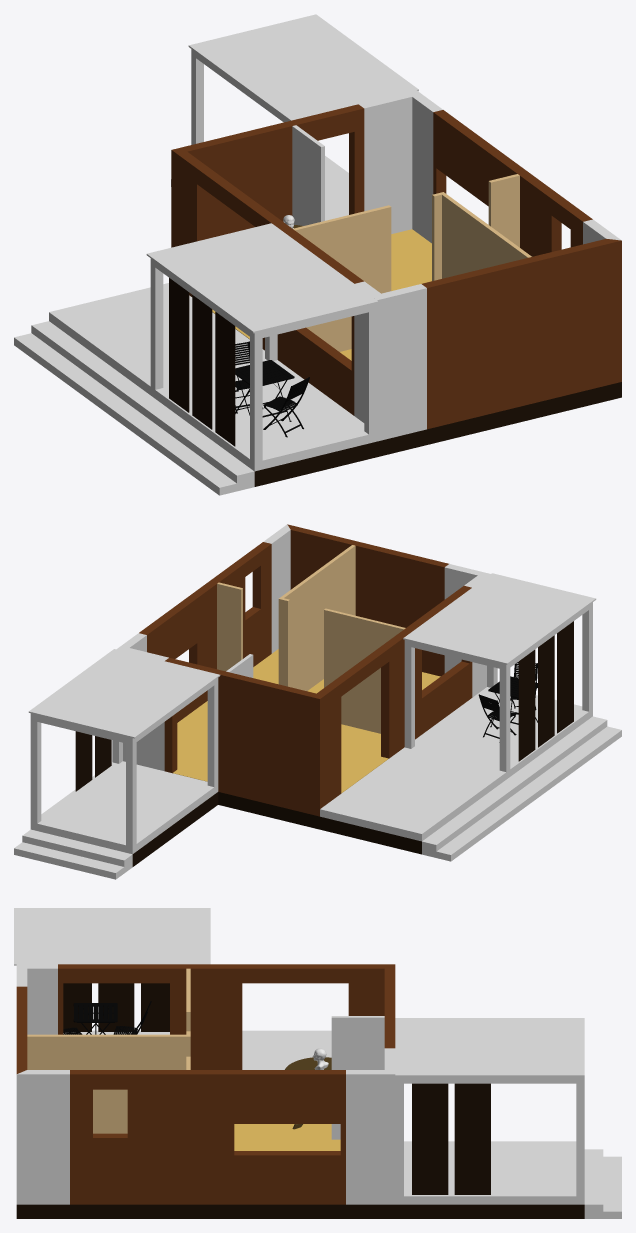
The model's file is domek_11_27_09_pr.glb.
3 renders of one model, top to bottom at view 1: azimuth 30°, elevation 25°; view 2: azimuth 150°, elevation 25°; view 3: azimuth 270°, elevation 25°, orthographic. The views are drawn at different scales.
Parts seen in each view (by area): view 1: support 3.002, pn maly drewniany element obok stolarki, wsch-pd sciana_beton, element azurowy.004, polnoc, zach, podpiwniczenie, podloga, poludnie, outdoor_table_chair_set_01_table, outdoor_table_chair_set_01_chair_01, srodek; view 2: support 3.002, pn maly drewniany element obok stolarki, element azurowy.004, zach, polnoc, podloga, wsch-pd sciana_beton, poludnie, podpiwniczenie, support 3, srodek, outdoor_table_chair_set_01_chair_02; view 3: pn maly drewniany element obok stolarki, support 3.002, wsch-pd sciana_beton, element azurowy.004, zach, podpiwniczenie, podloga, support 3, outdoor_table_chair_set_01_table.
Part boxes in pixels (<box>): support 3.002: <box>14,14,418,495</box>; pn maly drewniany element obok stolarki: <box>171,104,621,429</box>; wsch-pd sciana_beton: <box>354,90,621,441</box>; element azurowy.004: <box>169,278,376,486</box>; polnoc: <box>293,205,391,351</box>; zach: <box>440,192,531,278</box>; podpiwniczenie: <box>377,382,621,457</box>; podloga: <box>212,229,431,360</box>; poludnie: <box>488,174,519,247</box>; outdoor_table_chair_set_01_table: <box>235,360,294,421</box>; outdoor_table_chair_set_01_chair_01: <box>263,377,309,437</box>; srodek: <box>432,193,441,281</box>; support 3.002: <box>14,573,621,879</box>; pn maly drewniany element obok stolarki: <box>139,524,472,816</box>; element azurowy.004: <box>75,621,573,866</box>; zach: <box>279,545,355,690</box>; polnoc: <box>324,608,405,733</box>; podloga: <box>173,649,440,793</box>; wsch-pd sciana_beton: <box>116,524,490,771</box>; poludnie: <box>217,582,242,671</box>; podpiwniczenie: <box>218,792,319,829</box>; support 3: <box>30,719,41,830</box>; srodek: <box>278,597,289,686</box>; outdoor_table_chair_set_01_chair_02: <box>478,694,516,742</box>; pn maly drewniany element obok stolarki: <box>16,964,395,1204</box>; support 3.002: <box>14,908,621,1218</box>; wsch-pd sciana_beton: <box>16,964,395,1204</box>; element azurowy.004: <box>63,983,584,1218</box>; zach: <box>27,1034,190,1133</box>; podpiwniczenie: <box>16,1204,395,1218</box>; podloga: <box>234,1124,340,1150</box>; support 3: <box>576,1083,584,1204</box>; outdoor_table_chair_set_01_table: <box>73,1003,117,1034</box>.
Size of the model in its own units: 8.1 by 3 by 11.43.
